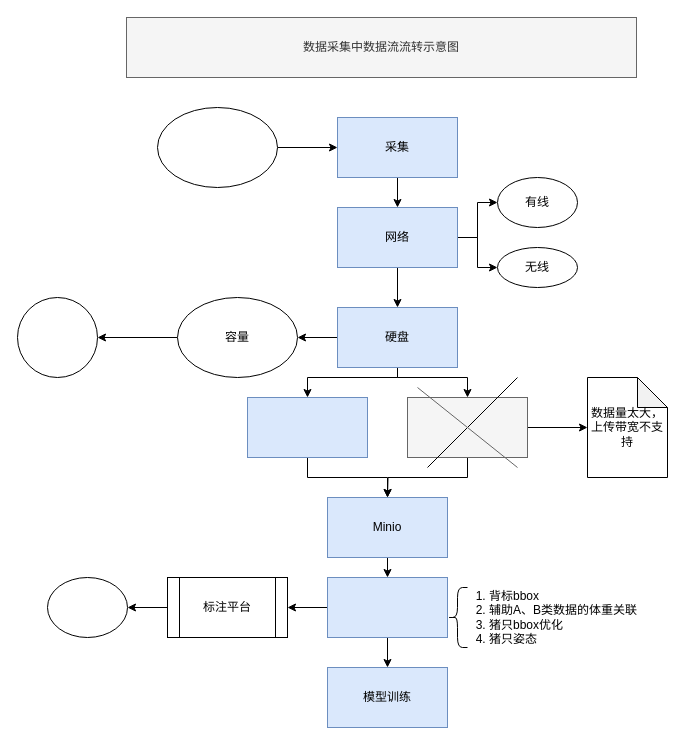
Some shapes in this 685 by 745 pixel diagram are drawn without their labels. Here are the shapes that lost their labels. From the top down, the centre of each, then its label:
the point at 217,147: 深度镜头
the point at 57,337: 够？
the point at 307,427: 物理方式寄回
the point at 467,427: 网络方式传回
the point at 87,607: 总部
the point at 387,607: 数据筛选标注
